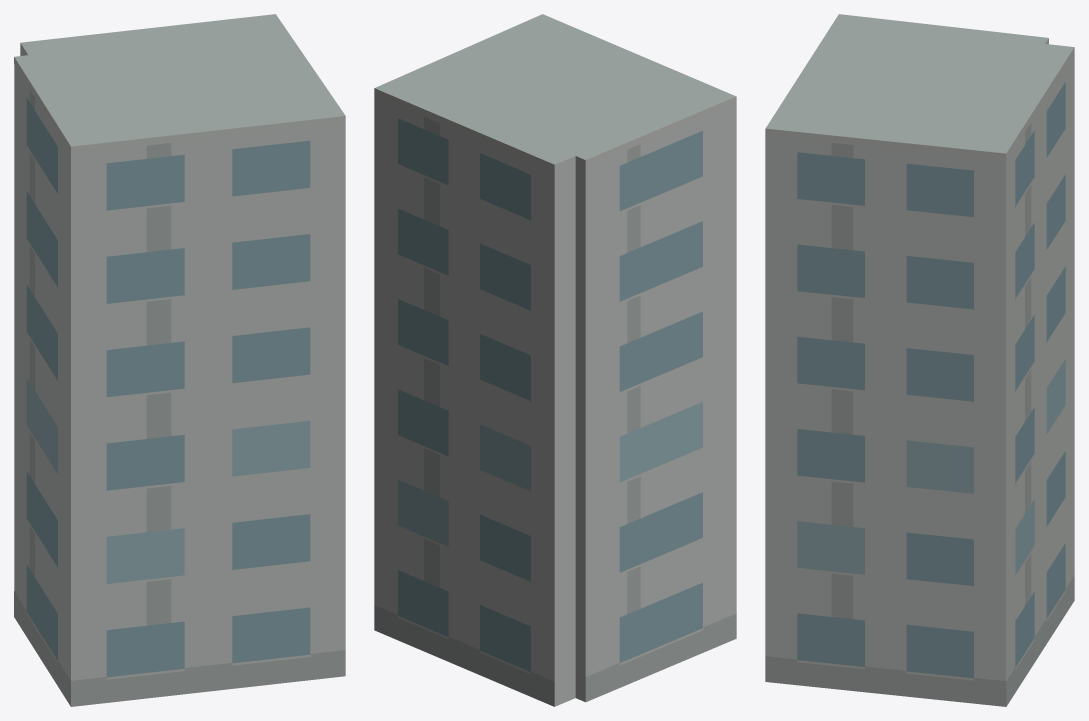
The model's file is survey-upis-32803378.glb.
3 renders of one model, left to right at view 1: azimuth 30°, elevation 25°; view 2: azimuth 150°, elevation 25°; view 3: azimuth 270°, elevation 25°, orthographic. The views are drawn at different scales.
Visible parts, largest first — view 1: survey-upis-32803378.tmp; view 2: survey-upis-32803378.tmp; view 3: survey-upis-32803378.tmp.
Boxes of the visible parts, x1,y1,x2,y2 form: survey-upis-32803378.tmp: (14, 14, 345, 706); survey-upis-32803378.tmp: (374, 14, 736, 706); survey-upis-32803378.tmp: (765, 14, 1074, 706).
Bounding box in the file's own units: 9.91 × 18.3 × 9.27.
